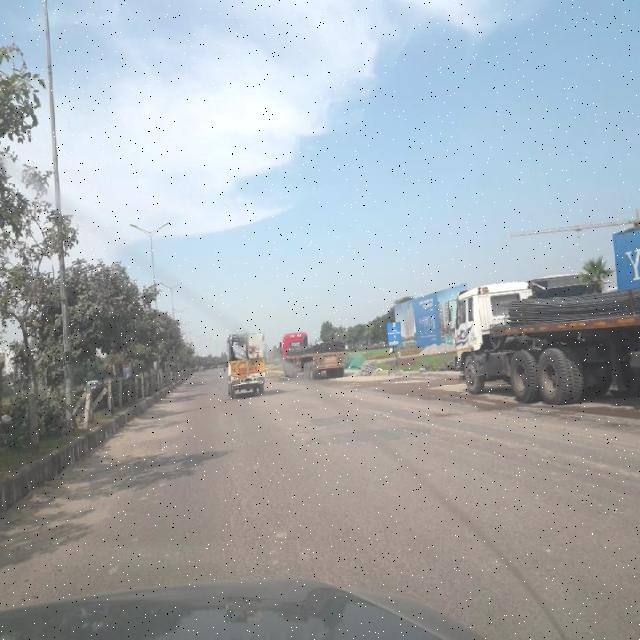D20: (166, 443, 620, 621)
D40: (289, 409, 346, 444)
